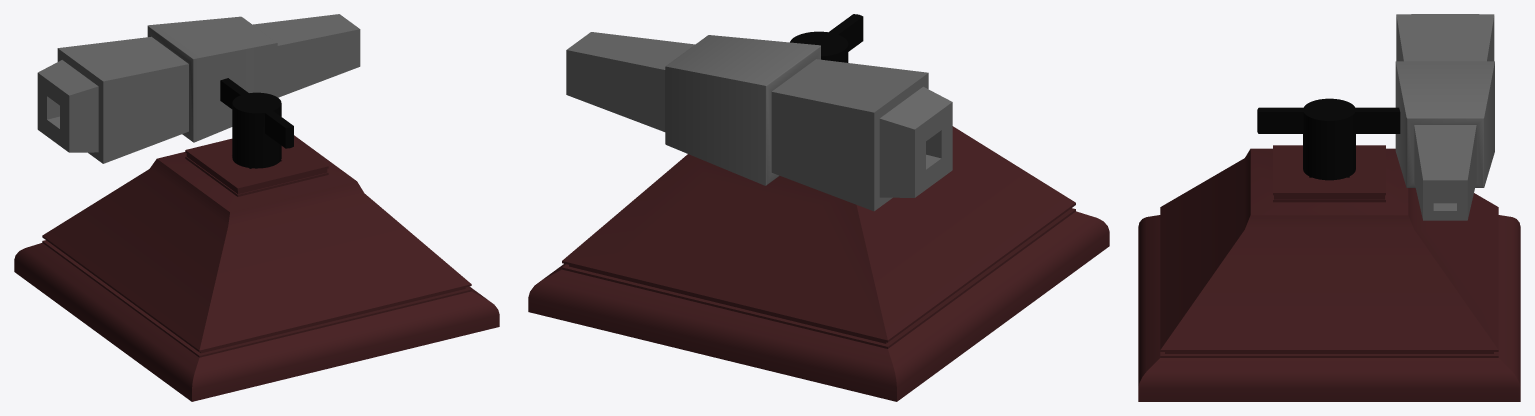
Rendered from Turret.glb.
3 renders of one model, left to right at view 1: azimuth 30°, elevation 25°; view 2: azimuth 150°, elevation 25°; view 3: azimuth 270°, elevation 25°, orthographic. The views are drawn at different scales.
Visible parts, largest first — view 1: Cube, Cube.001, Cylinder; view 2: Cube, Cube.001, Cylinder; view 3: Cube, Cube.001, Cylinder.
Part boxes in pixels (<box>): Cube: <box>14,135,499,401</box>; Cube.001: <box>37,14,360,163</box>; Cylinder: <box>220,78,293,168</box>; Cube: <box>528,126,1109,401</box>; Cube.001: <box>566,32,952,211</box>; Cylinder: <box>790,14,863,62</box>; Cube: <box>1138,145,1520,401</box>; Cube.001: <box>1395,14,1494,220</box>; Cylinder: <box>1257,98,1400,180</box>.
Size of the model in its own units: 2 by 1.4 by 2.
